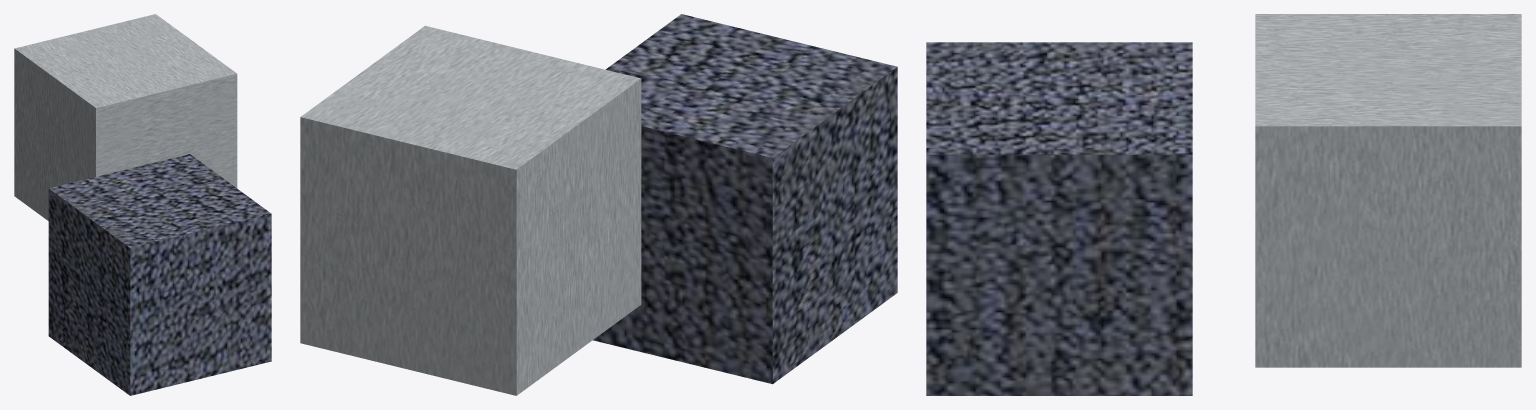
The model's file is cubes.fbx.
3 renders of one model, left to right at view 1: azimuth 30°, elevation 25°; view 2: azimuth 150°, elevation 25°; view 3: azimuth 270°, elevation 25°, orthographic. The views are drawn at different scales.
Visible parts, largest first — view 1: Cube, Cube.001; view 2: Cube.001, Cube; view 3: Cube.001, Cube.
Part boxes in pixels (box(x1,y1,x2,y2)): Cube: box(48, 154, 271, 395); Cube.001: box(14, 14, 237, 220); Cube.001: box(300, 25, 641, 395); Cube: box(593, 14, 897, 384); Cube.001: box(1255, 14, 1521, 367); Cube: box(926, 42, 1192, 395).
Size of the model in its own units: 2.94 by 2.67 by 4.47.
2 materials, 2 textured.
